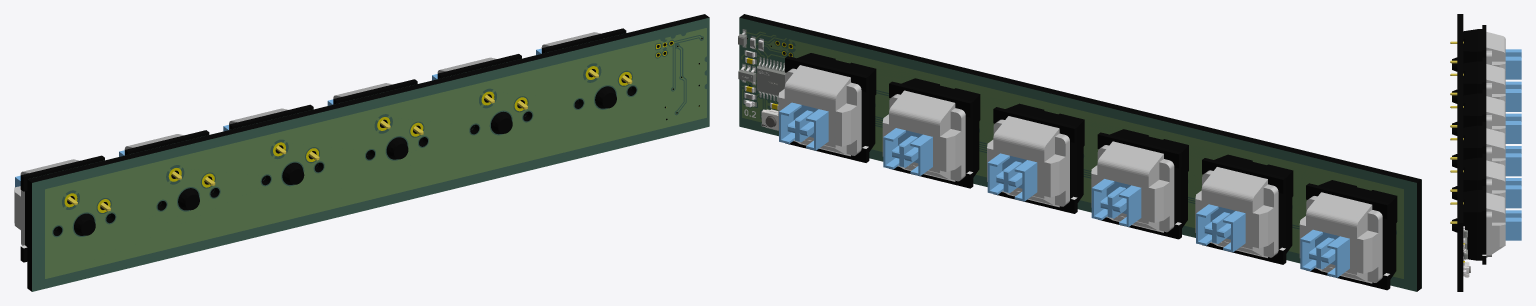
The model's file is vm_keycap_button_row_0.3.glb.
The picture shows the model from 3 angles, left to right: view 1: azimuth 30°, elevation 25°; view 2: azimuth 150°, elevation 25°; view 3: azimuth 270°, elevation 25°; orthographic projection. The views are drawn at different scales.
Visible parts, largest first — view 1: SHAPE_1_IndexedFaceSet, SHAPE_4002_IndexedFaceSet; view 2: SHAPE_1_IndexedFaceSet, SHAPE_4002_IndexedFaceSet; view 3: SHAPE_1_IndexedFaceSet.
Boxes of the visible parts, <box> form: SHAPE_1_IndexedFaceSet: <box>14,14,709,291</box>; SHAPE_4002_IndexedFaceSet: <box>32,14,709,291</box>; SHAPE_1_IndexedFaceSet: <box>738,14,1421,291</box>; SHAPE_4002_IndexedFaceSet: <box>739,17,1421,291</box>; SHAPE_1_IndexedFaceSet: <box>1450,14,1521,291</box>.
Size of the model in its own units: 130 by 20 by 18.7.
Materials: 2 (2 with a texture image).
